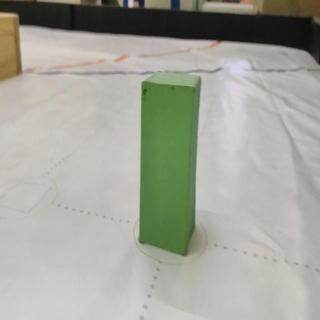greenbox: (139, 69, 202, 259)
